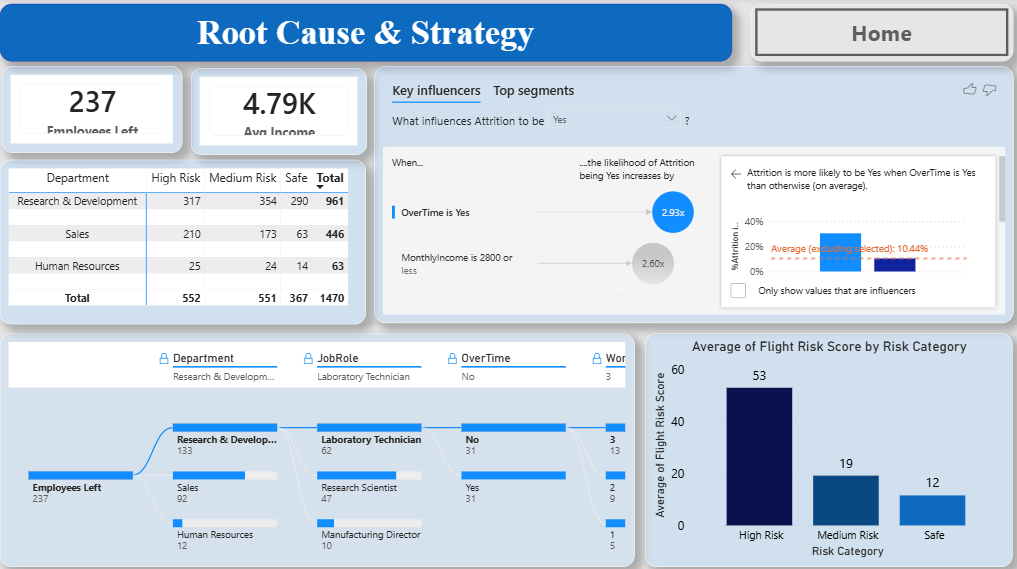

This screenshot's page, from the dashboard's own definition file:
{"tool":"powerbi","page":{"name":" Page 4","canvas":[1280,720],"ordinal":4},"visuals":[{"type":"textbox","box":[5.9,8.8,913.2,71.7],"z":0},{"type":"cardVisual","fields":{"Data":["IBM_HR_Final_PowerBI.Employees Left"]},"box":[8.1,87.8,225.4,108.3],"z":1000},{"type":"cardVisual","fields":{"Data":["IBM_HR_Final_PowerBI.Avg Income (Attrition)"]},"box":[242.9,89.3,219.5,108.3],"z":2000},{"type":"decompositionTreeVisual","fields":{"Analyze":["IBM_HR_Final_PowerBI.Employees Left"],"ExplainBy":["IBM_HR_Final_PowerBI.Department","IBM_HR_Final_PowerBI.JobRole","IBM_HR_Final_PowerBI.OverTime","IBM_HR_Final_PowerBI.WorkLifeBalance","IBM_HR_Final_PowerBI.MonthlyIncome"]},"box":[5.9,420,791.7,291.2],"z":3000},{"type":"pivotTable","fields":{"Rows":["IBM_HR_Final_PowerBI.Department"],"Columns":["IBM_HR_Final_PowerBI.Risk_Category"],"Values":["CountNonNull(IBM_HR_Final_PowerBI.EmployeeCount)"]},"box":[5.9,204.9,456.6,204.9],"z":4000},{"type":"actionButton","box":[941,8.8,327.8,71.7],"z":5000},{"type":"keyDriversVisual","fields":{"Target":["IBM_HR_Final_PowerBI.Attrition"],"ExplainBy":["IBM_HR_Final_PowerBI.MonthlyIncome","Sum(IBM_HR_Final_PowerBI.WorkLifeBalance)","Sum(IBM_HR_Final_PowerBI.DistanceFromHome)","Sum(IBM_HR_Final_PowerBI.JobSatisfaction)","IBM_HR_Final_PowerBI.OverTime"]},"box":[471.2,87.8,797.6,320.5],"z":6000},{"type":"clusteredColumnChart","fields":{"Category":["IBM_HR_Final_PowerBI.Risk_Category"],"Y":["Avg(IBM_HR_Final_PowerBI.Flight_Risk_Score)"]},"box":[810.7,420,458,291.2],"z":7000}]}

Visuals, with their boxes in screenshot pixels (x1, y1, x2, y2), scaled from the page's 1280x720 canvas onto the 1017x569 screenshot:
textbox: select_region(5, 7, 730, 64)
cardVisual - IBM_HR_Final_PowerBI.Employees Left: select_region(6, 69, 186, 155)
cardVisual - IBM_HR_Final_PowerBI.Avg Income (Attrition): select_region(193, 71, 367, 156)
decompositionTreeVisual - IBM_HR_Final_PowerBI.Employees Left x IBM_HR_Final_PowerBI.Department: select_region(5, 332, 634, 562)
pivotTable - IBM_HR_Final_PowerBI.Department x IBM_HR_Final_PowerBI.Risk_Category: select_region(5, 162, 367, 324)
actionButton: select_region(748, 7, 1008, 64)
keyDriversVisual - IBM_HR_Final_PowerBI.Attrition x IBM_HR_Final_PowerBI.MonthlyIncome: select_region(374, 69, 1008, 323)
clusteredColumnChart - IBM_HR_Final_PowerBI.Risk_Category x Avg(IBM_HR_Final_PowerBI.Flight_Risk_Score): select_region(644, 332, 1008, 562)
